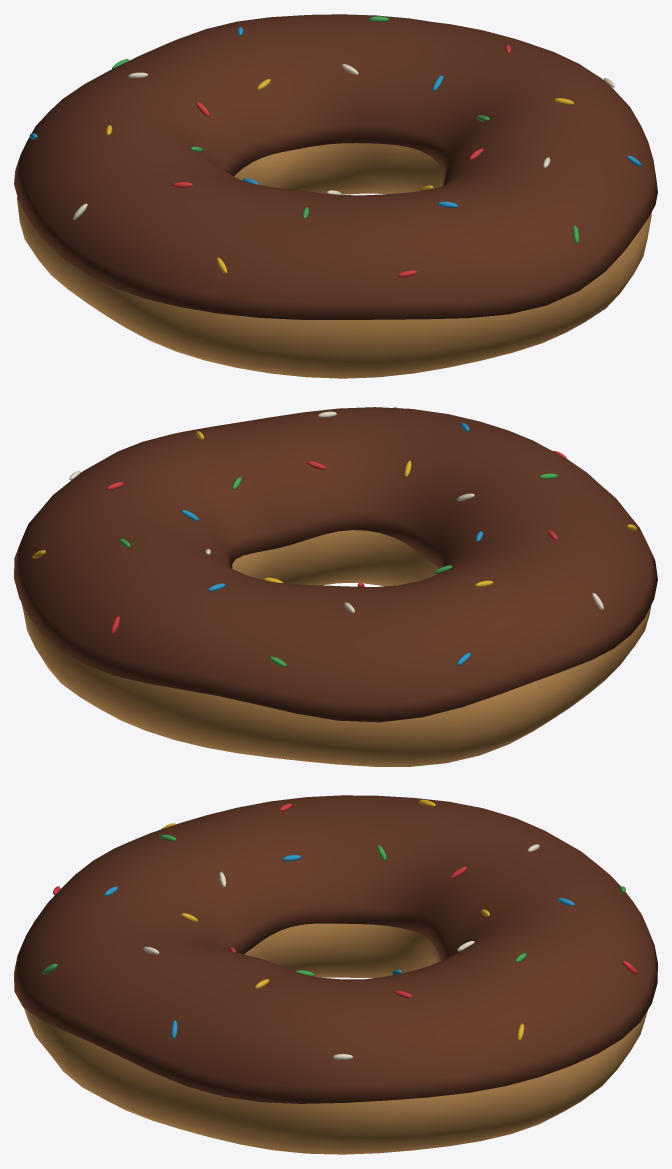
3 views of the same model, one above another, from view 1: azimuth 30°, elevation 25°; view 2: azimuth 150°, elevation 25°; view 3: azimuth 270°, elevation 25° (orthographic).
Parts seen in each view (by area): view 1: Closed draped icing layer, Closed irregular dough ring; view 2: Closed draped icing layer, Closed irregular dough ring; view 3: Closed draped icing layer, Closed irregular dough ring.
Part boxes in pixels (<box>): Closed draped icing layer: <box>14,14,657,319</box>; Closed irregular dough ring: <box>17,143,651,378</box>; Closed draped icing layer: <box>14,407,657,722</box>; Closed irregular dough ring: <box>21,530,651,766</box>; Closed draped icing layer: <box>14,795,657,1103</box>; Closed irregular dough ring: <box>24,923,647,1154</box>.
Size of the model in its own units: 0.0996 by 0.0279 by 0.0996.
